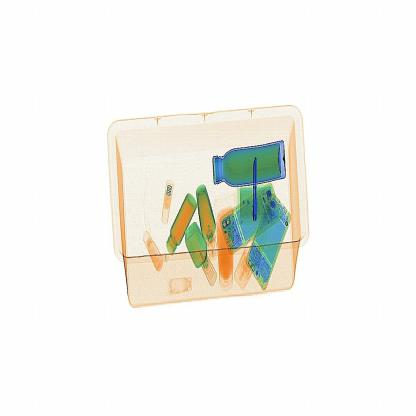pliers: (244, 146, 268, 226)
